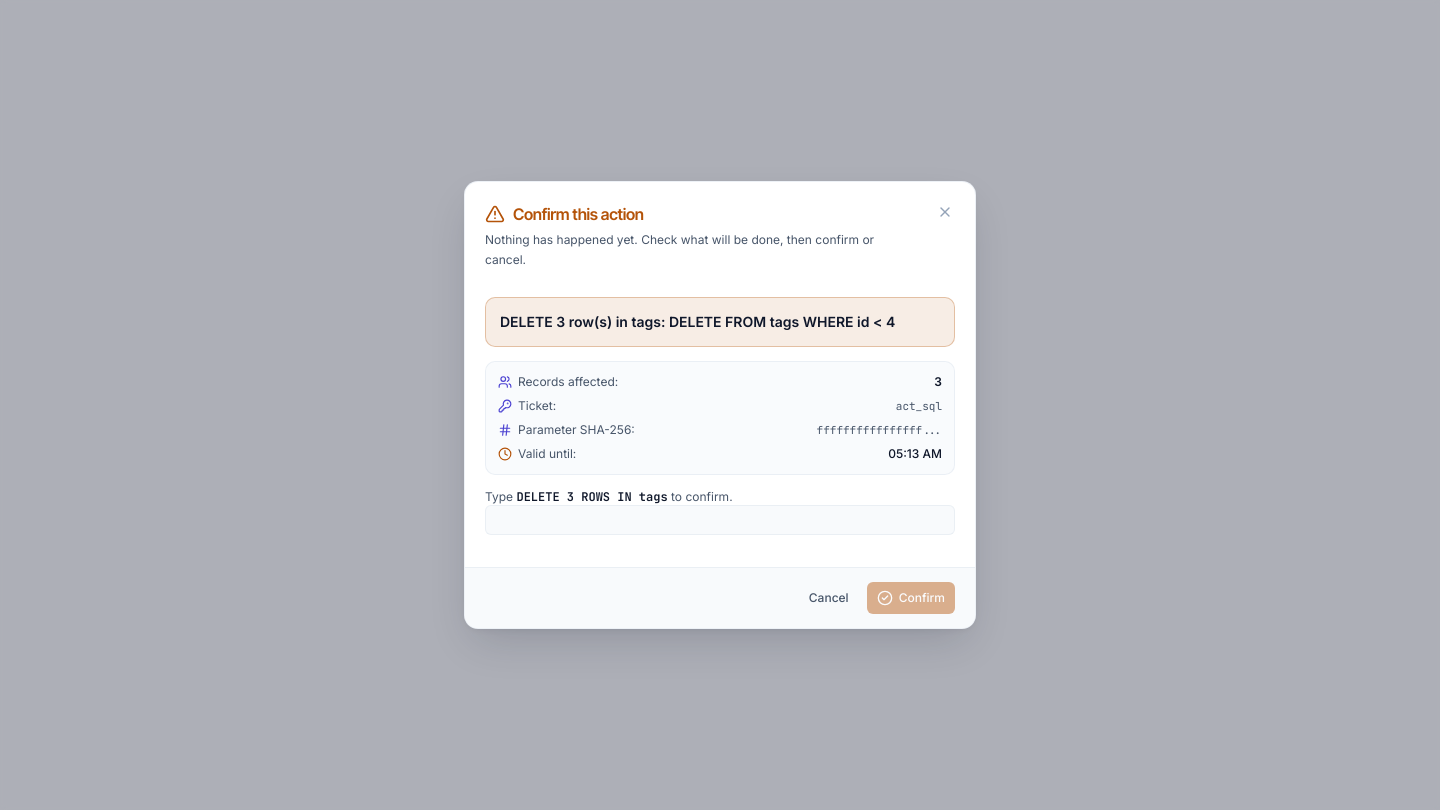
Test: ActionConfirmationDialog › keeps Confirm disabled until the exact phrase is typed
Check: the button "Confirm" is disabled, box [867,582,955,614]
Type "delete 3 rows in tags" into the field with test id "ai-confirm-phrase".
click(720, 520); type("delete 3 rows in tags")  # box [485,505,955,535]
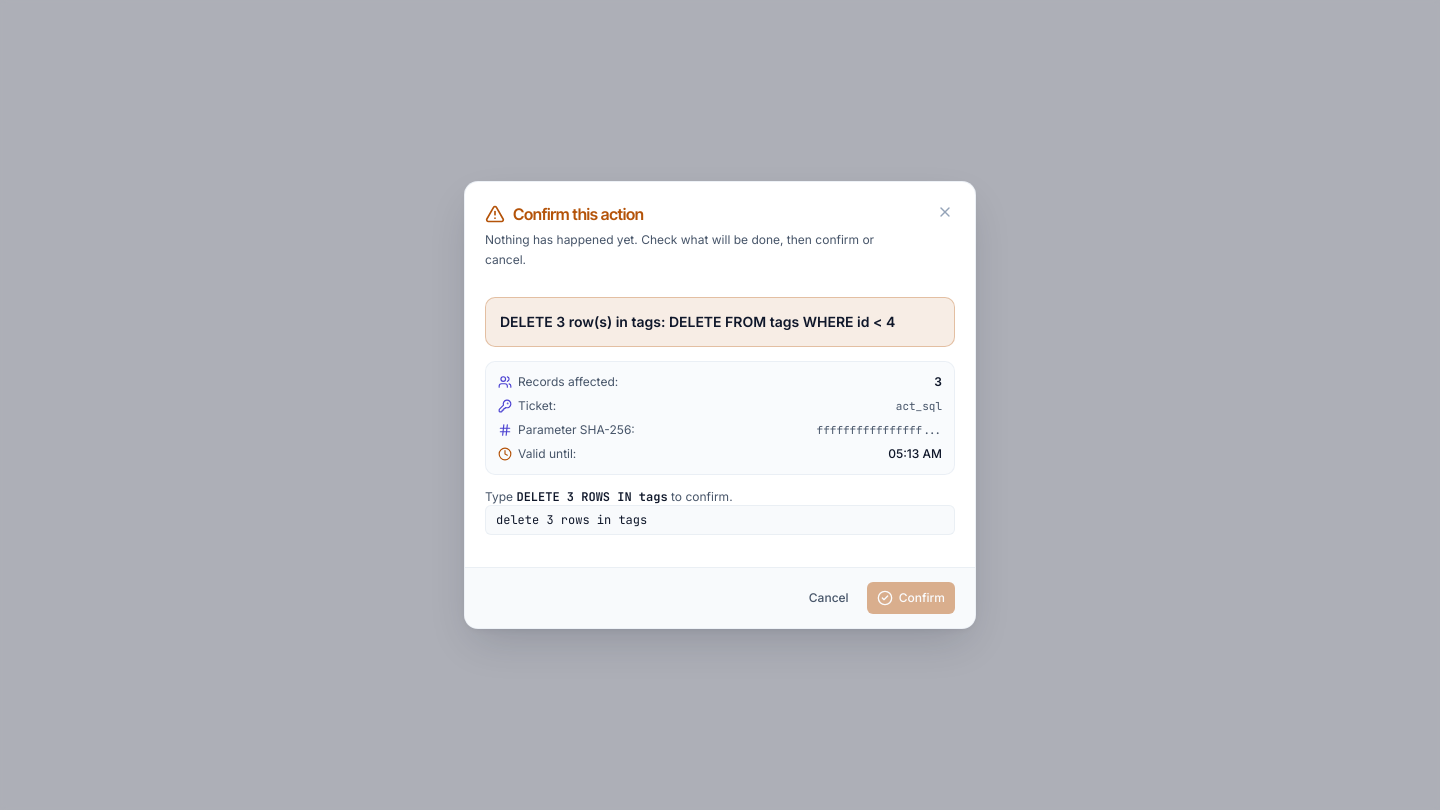
Check: the button "Confirm" is disabled, box [867,582,955,614]
Replace the text in the field with test id "ai-confirm-phrase" with "DELETE 3 ROWS IN tags" at (720, 520), box [485,505,955,535]
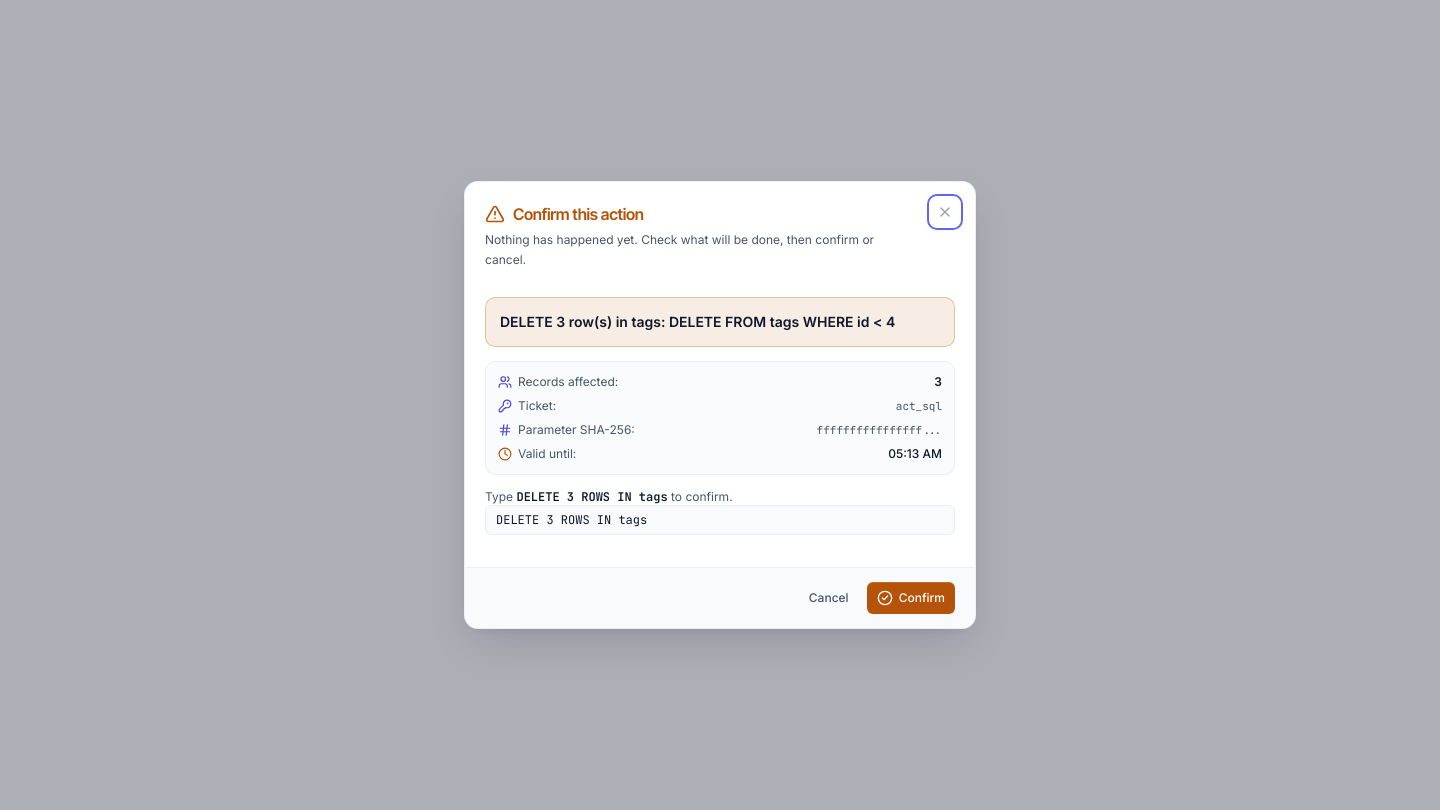
Check: the button "Confirm" is enabled, box [867,582,955,614]
